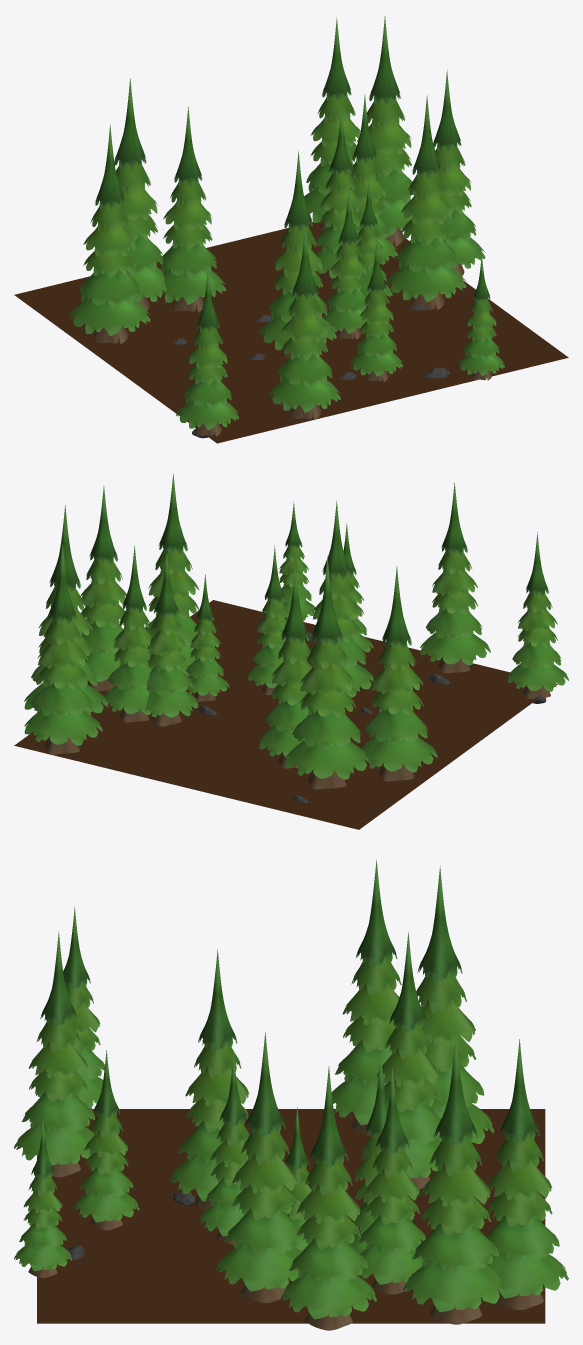
File: small_forest.glb
3 views of the same model, one above another, from view 1: azimuth 30°, elevation 25°; view 2: azimuth 150°, elevation 25°; view 3: azimuth 270°, elevation 25° (orthographic). The views are drawn at different scales.
Visible parts, largest first — view 1: Tree (×16), Plane; view 2: Tree (×16), Plane; view 3: Tree (×16), Plane.
Part boxes in pixels (x1=…): Tree (×16): x1=68, y1=16, x2=504, y2=436; Plane: x1=14, y1=221, x2=568, y2=443; Tree (×16): x1=24, y1=473, x2=568, y2=789; Plane: x1=14, y1=600, x2=557, y2=829; Tree (×16): x1=14, y1=860, x2=568, y2=1330; Plane: x1=37, y1=1109, x2=545, y2=1323.
Bounding box in the file's own units: 683 × 389 × 655.
